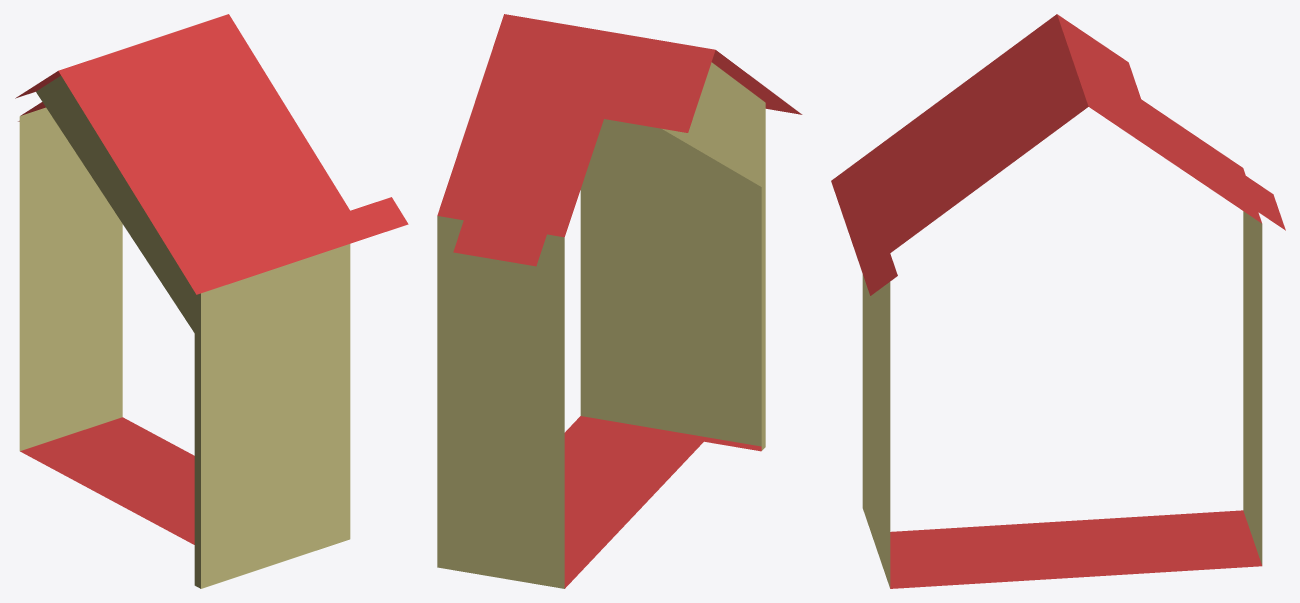
The picture shows the model from 3 angles, left to right: view 1: azimuth 30°, elevation 25°; view 2: azimuth 150°, elevation 25°; view 3: azimuth 270°, elevation 25°; orthographic projection. The views are drawn at different scales.
Bounding box in the file's own units: 8.5 × 12.24 × 13.95.
